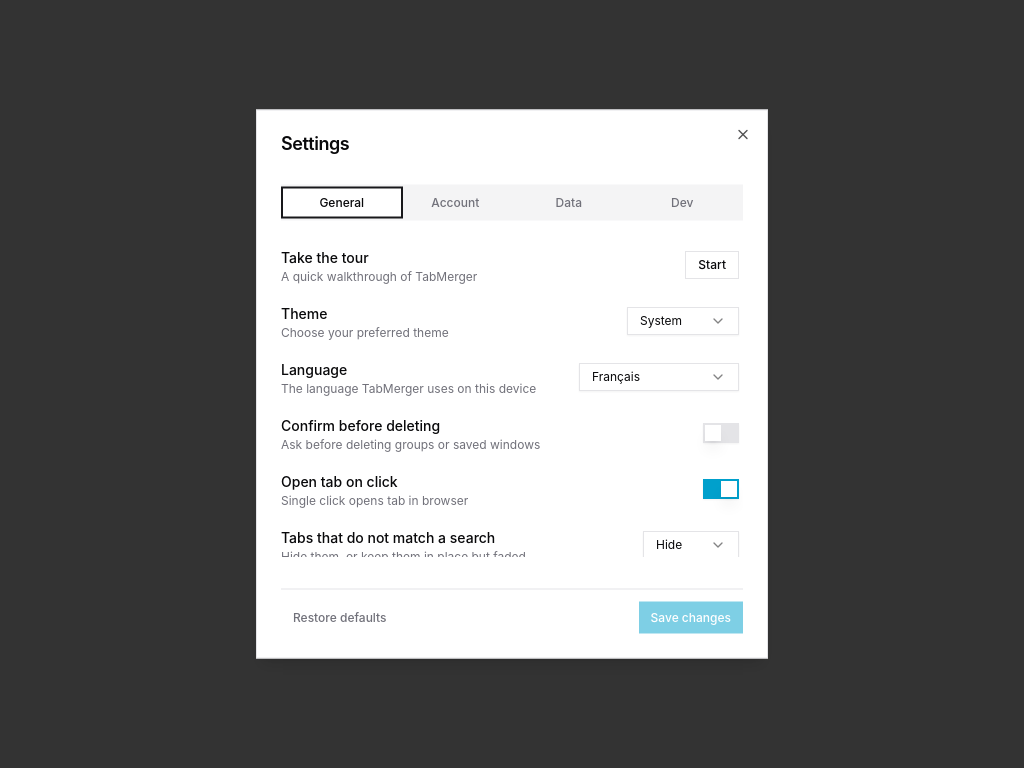
Test: SettingsModal — Language › starts from the stored choice, and Restore defaults puts it back to Browser default
Expected: the button with test id "settings-language" reads "Français", [579,362,739,390]
Expected: the button "Save changes" is disabled, [639,602,743,634]
Step 1. Click the button "Restore defaults" → (340, 618), box [281,602,398,634]
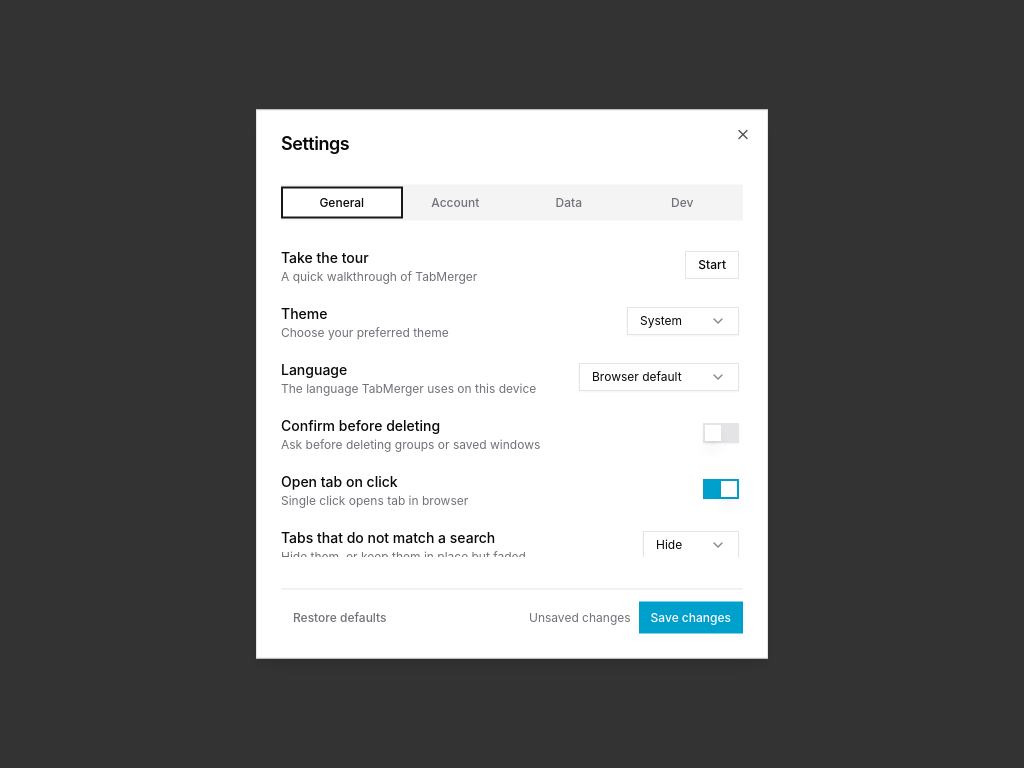
Expected: the button with test id "settings-language" reads "Browser default", [579,362,739,390]
Expected: the button "Save changes" is enabled, [639,602,743,634]
